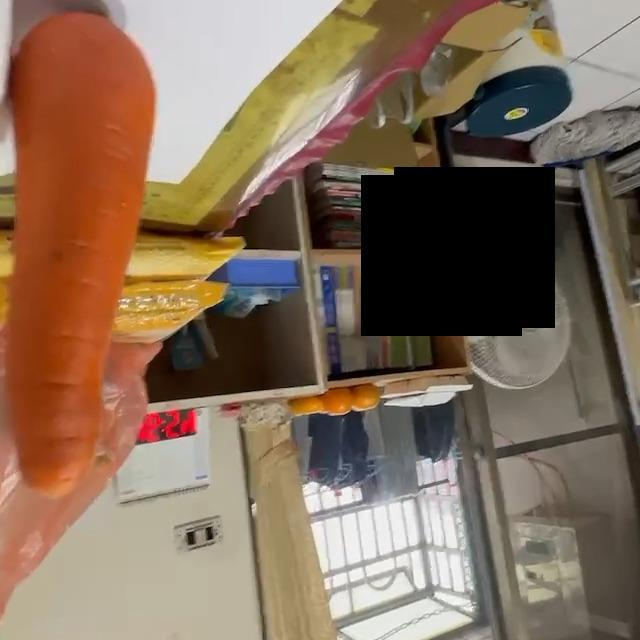carrot: (5, 9, 161, 501)
